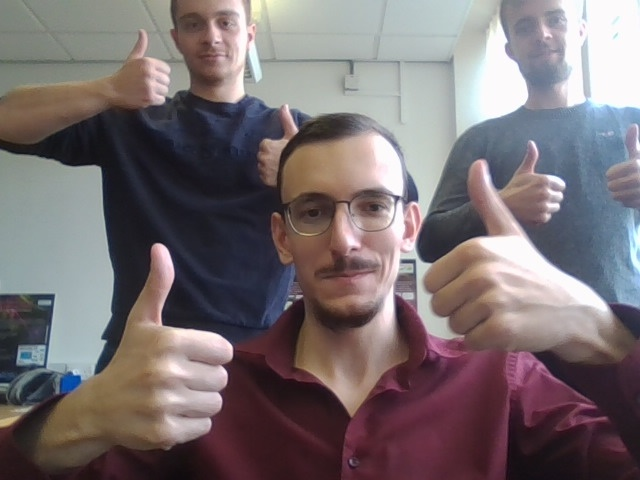thumbup: (423, 158, 570, 347), (113, 239, 236, 453), (504, 140, 565, 227), (115, 30, 172, 110), (604, 124, 640, 211)
